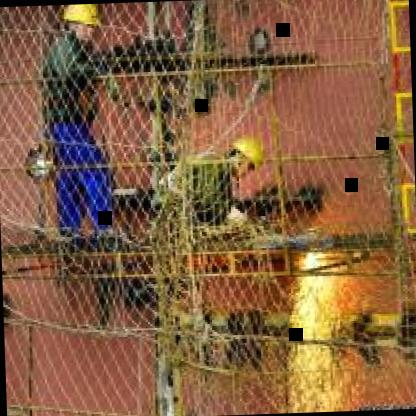helmet: (226, 132, 264, 181), (62, 4, 102, 41)
